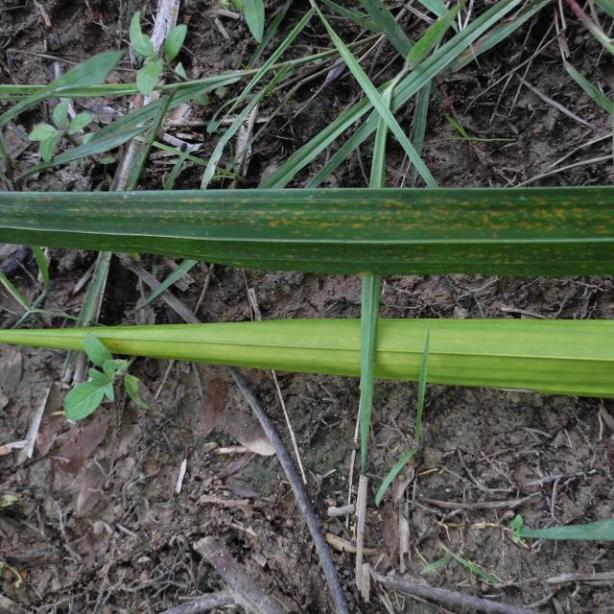nitrogen: (0, 182, 612, 278), (6, 318, 614, 397)
